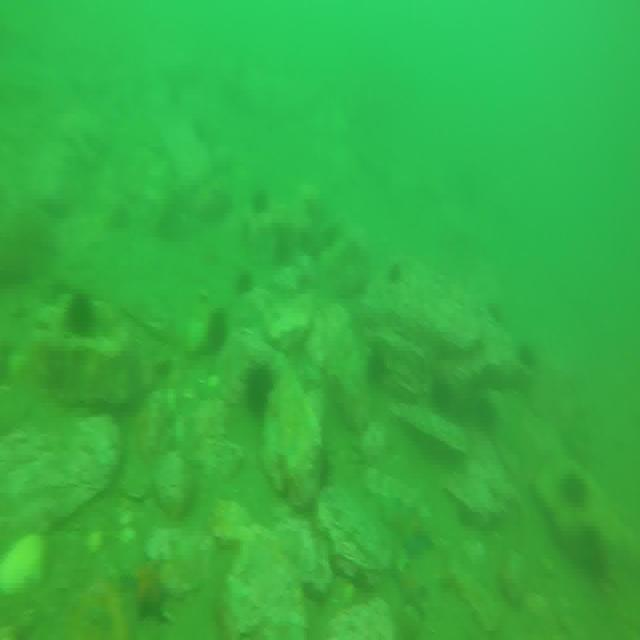echinus: (572, 520, 608, 586), (247, 364, 278, 418), (63, 298, 96, 346), (432, 373, 455, 428), (474, 382, 496, 435), (211, 308, 234, 352), (563, 468, 587, 504), (519, 337, 540, 378), (366, 344, 389, 380), (250, 179, 267, 219), (239, 267, 257, 297), (389, 257, 404, 285)
starfish: (124, 547, 170, 620), (395, 564, 429, 616), (402, 510, 436, 553)
